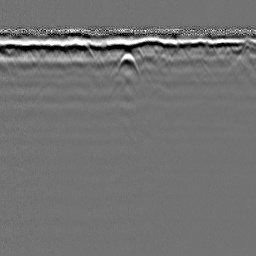cavity: (116, 52, 141, 76)
